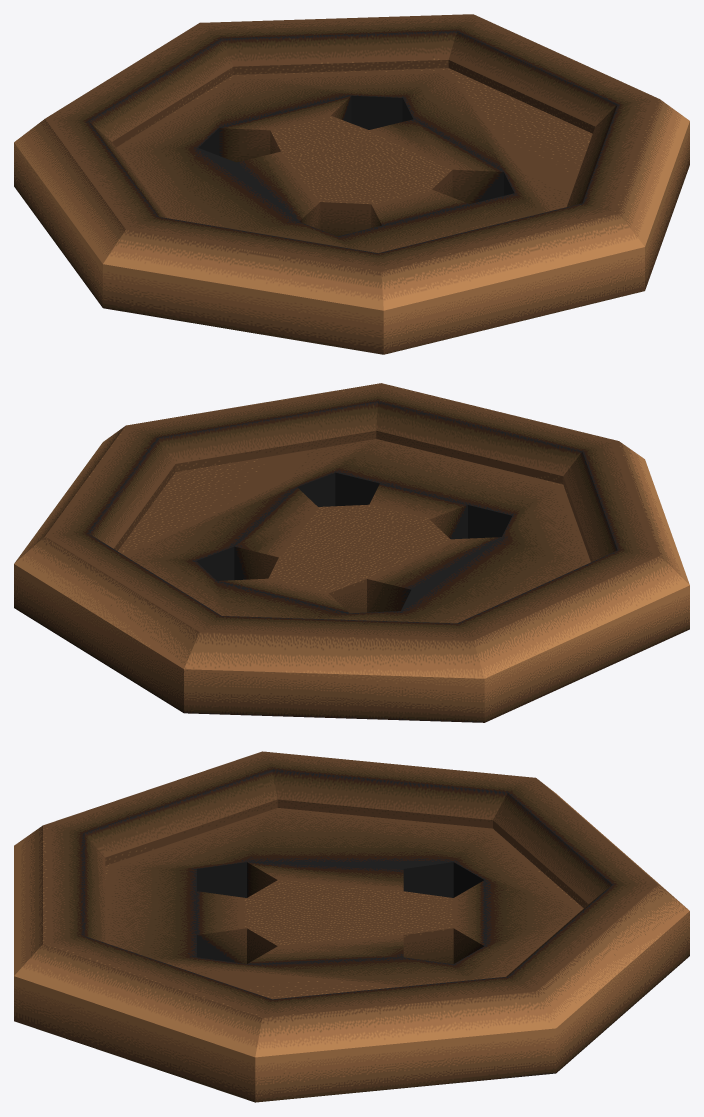
File: LD56_Button.fbx
3 views of the same model, one above another, from view 1: azimuth 30°, elevation 25°; view 2: azimuth 150°, elevation 25°; view 3: azimuth 270°, elevation 25° (orthographic). The views are drawn at different scales.
Visible parts, largest first — view 1: button; view 2: button; view 3: button.
Part boxes in pixels (<box>): button: <box>14,14,689,354</box>; button: <box>14,383,689,722</box>; button: <box>14,751,689,1102</box>.
Size of the model in its own units: 195 by 22.13 by 190.
